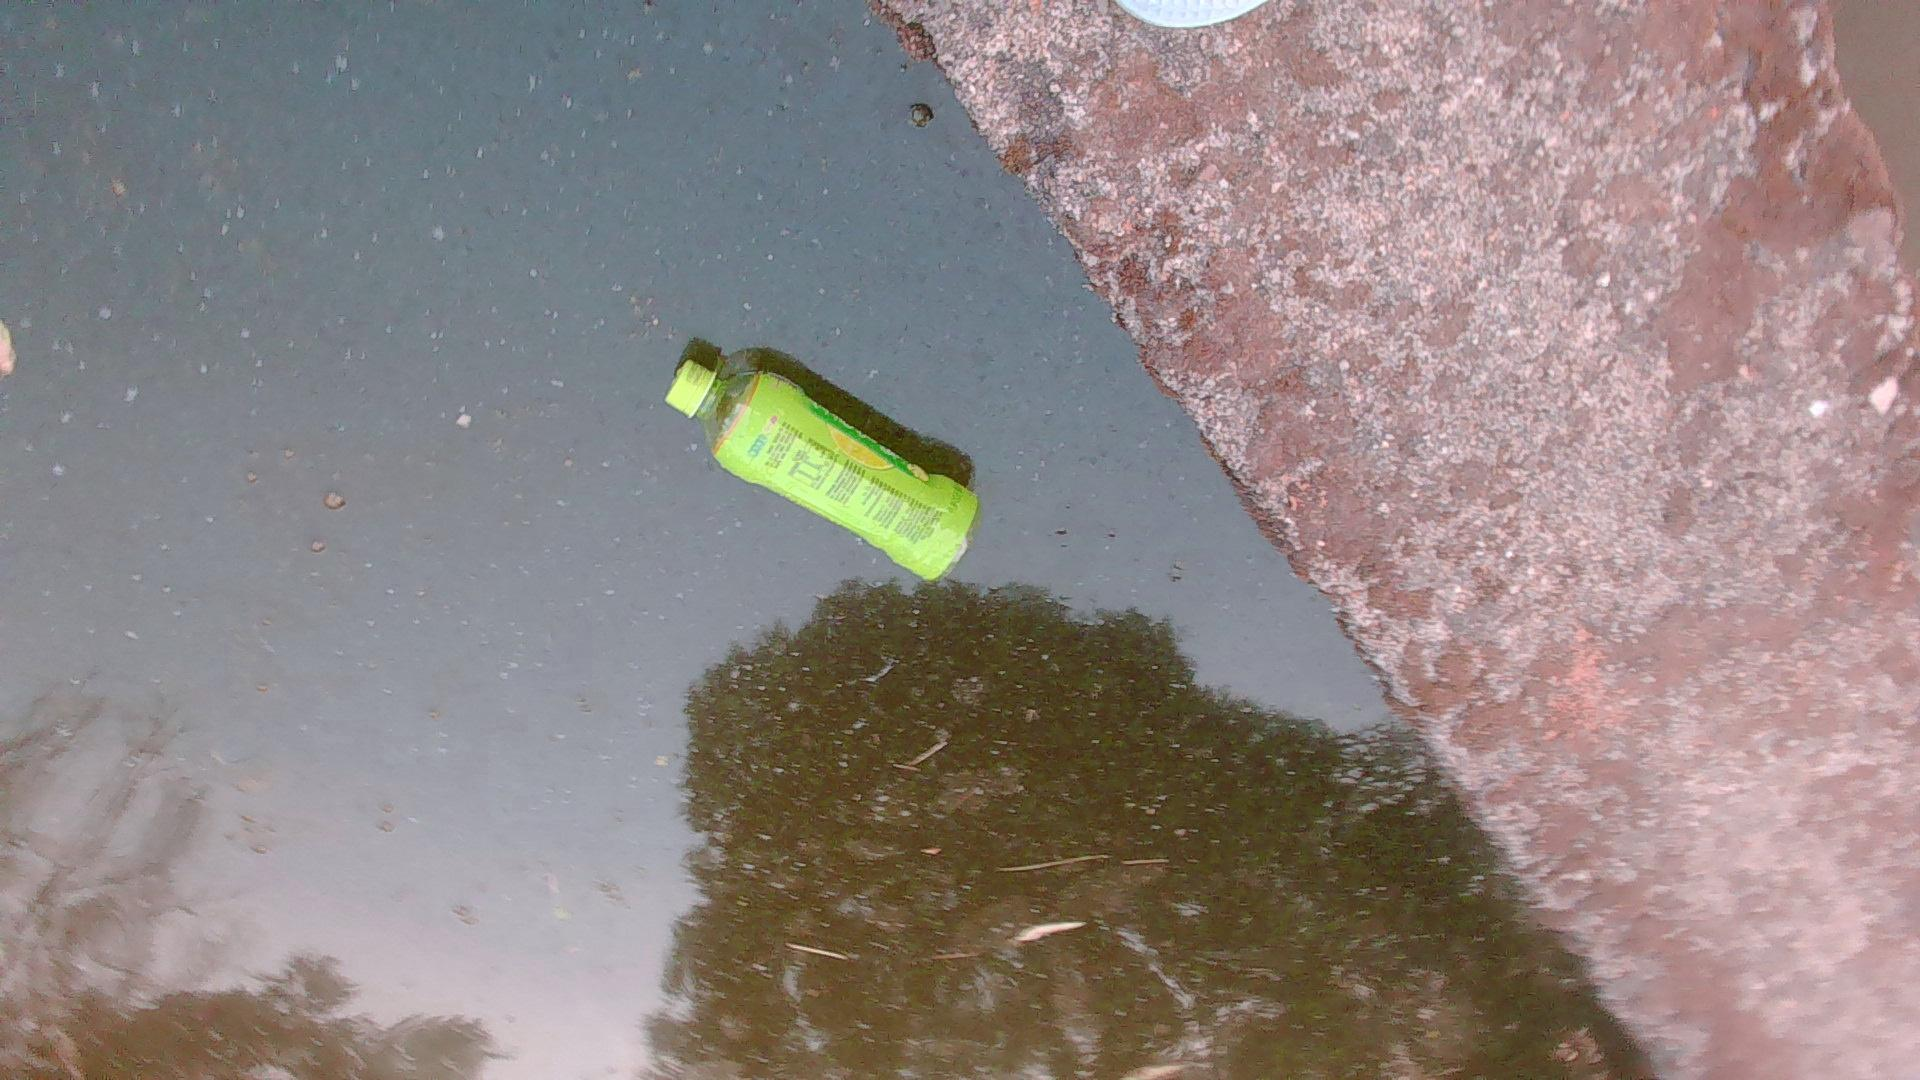Plastic: (659, 345, 988, 593)
